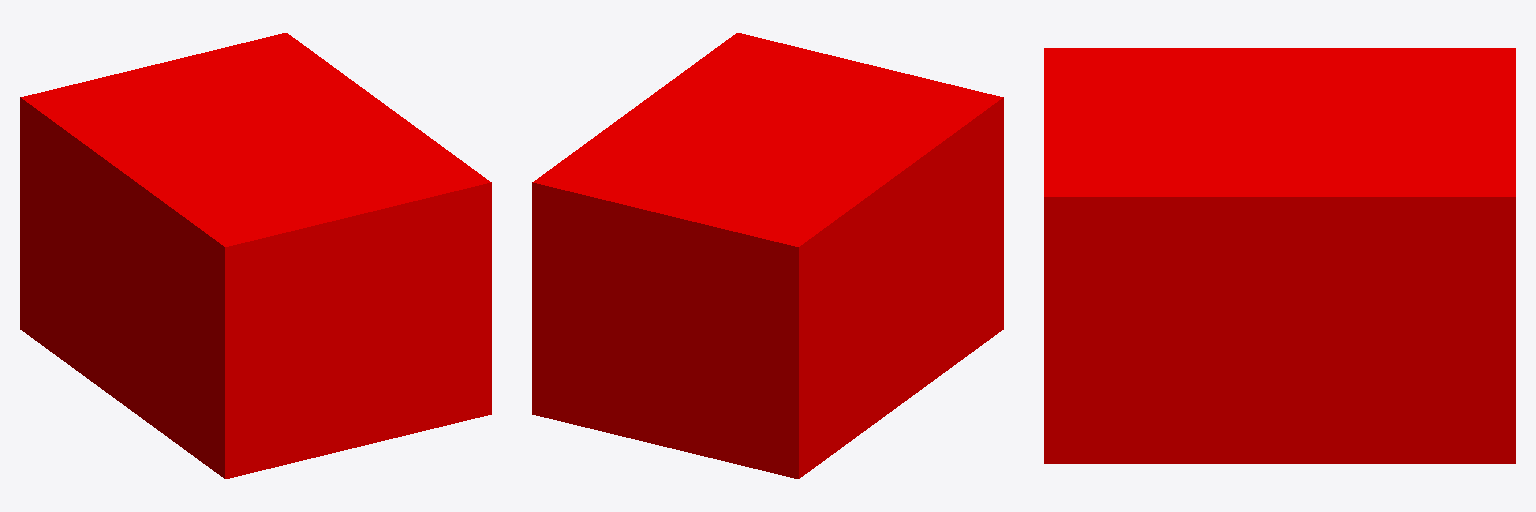
robot.urdf — small_box:
<?xml version="1.0" ?>
<robot name="small_box">

  <link name="base">
    <inertial>
      <mass value="0.05"/>
      <inertia ixx="0.00001" iyy="0.00001" izz="0.00001"/>
    </inertial>

    <visual>
      <geometry>
        <box size="0.030 0.04 0.025"/>
      </geometry>
      <material name="red">
        <color rgba="1 0 0 1"/>
      </material>
    </visual>

    <collision>
      <geometry>
        <box size="0.030 0.04 0.025"/>
      </geometry>
    </collision>
    
  </link>
</robot>

--- What the picture shows (computed from the rendered views, not written in the file) ---
The picture shows the robot from 3 angles, left to right: view 1: azimuth 30°, elevation 25°; view 2: azimuth 150°, elevation 25°; view 3: azimuth 270°, elevation 25°; orthographic projection.
Model small_box with 1 links and 0 joints (none), rooted at base, posed every joint at zero.
Links seen in each view (by area): view 1: base; view 2: base; view 3: base.
Boxes of the visible links, left/top/right/bottom form: base: left=20, top=33, right=491, bottom=478; base: left=532, top=33, right=1003, bottom=478; base: left=1044, top=48, right=1515, bottom=463.
Size in the robot's own frame: 0.03 by 0.04 by 0.025 metres.
Geometry: primitives only (box / cylinder / sphere), no mesh files.